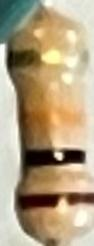Black: (25, 149, 88, 169)
Brown: (16, 192, 94, 210)
Orange: (19, 109, 85, 133)
Side-Gold: (8, 48, 91, 70)
